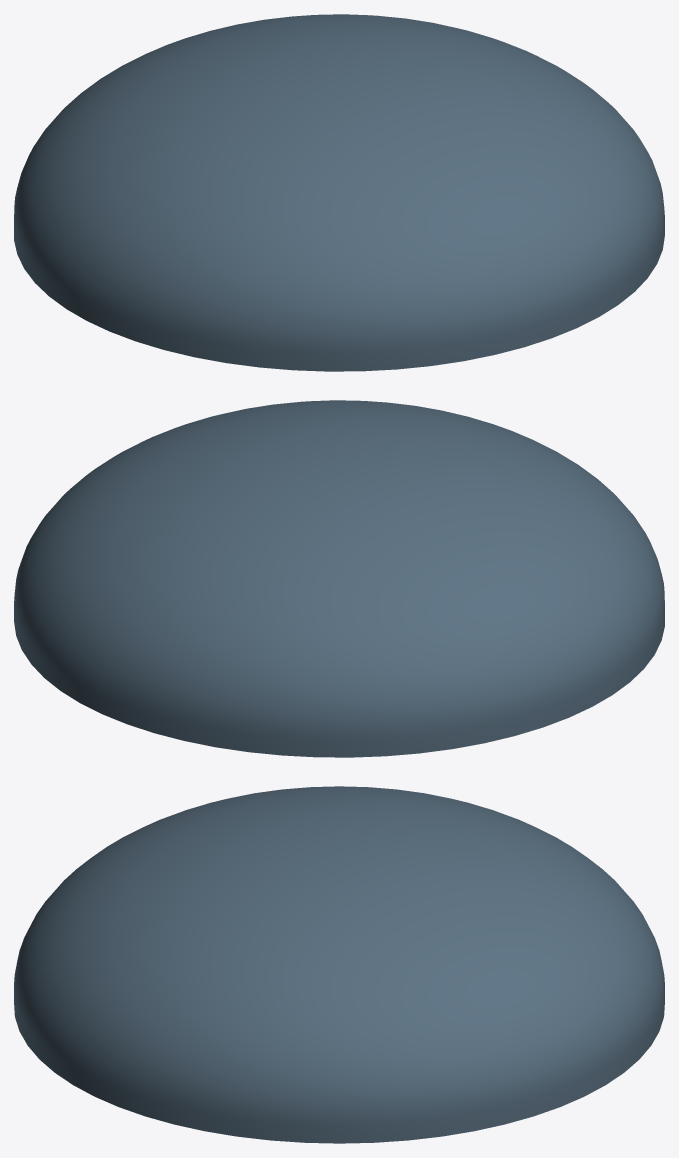
The model's file is dnishche-820x10.glb.
The picture shows the model from 3 angles, top to bottom: view 1: azimuth 30°, elevation 25°; view 2: azimuth 150°, elevation 25°; view 3: azimuth 270°, elevation 25°; orthographic projection.
Visible parts, largest first — view 1: Open CASCADE STEP translator 7.9 28; view 2: Open CASCADE STEP translator 7.9 28; view 3: Open CASCADE STEP translator 7.9 28.
Boxes of the visible parts, x1=… form: Open CASCADE STEP translator 7.9 28: x1=14, y1=14, x2=664, y2=371; Open CASCADE STEP translator 7.9 28: x1=14, y1=400, x2=664, y2=757; Open CASCADE STEP translator 7.9 28: x1=14, y1=786, x2=664, y2=1143.
Size of the model in its own units: 819 by 230 by 820.
